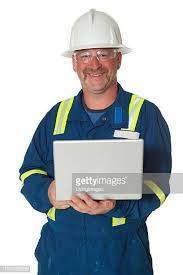Person_wearing_helmet: (55, 5, 138, 65)
